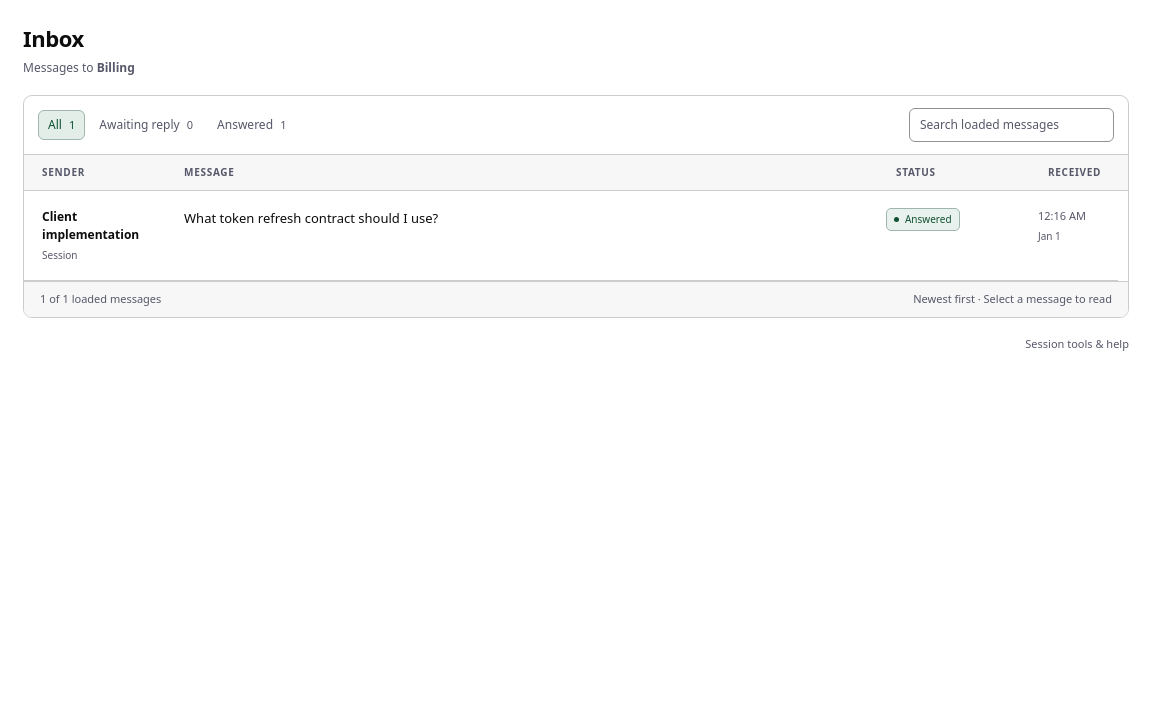
Test case: session inbox › shows who sent a question, its status, and the complete answer
Check: the text "Answered" is shown, box [886,208,960,231]
What coordinates should you click on to do the following:
click the heading "Client implementation"
I would click on:
 (60, 217)
Its box is [24,191,1118,280].
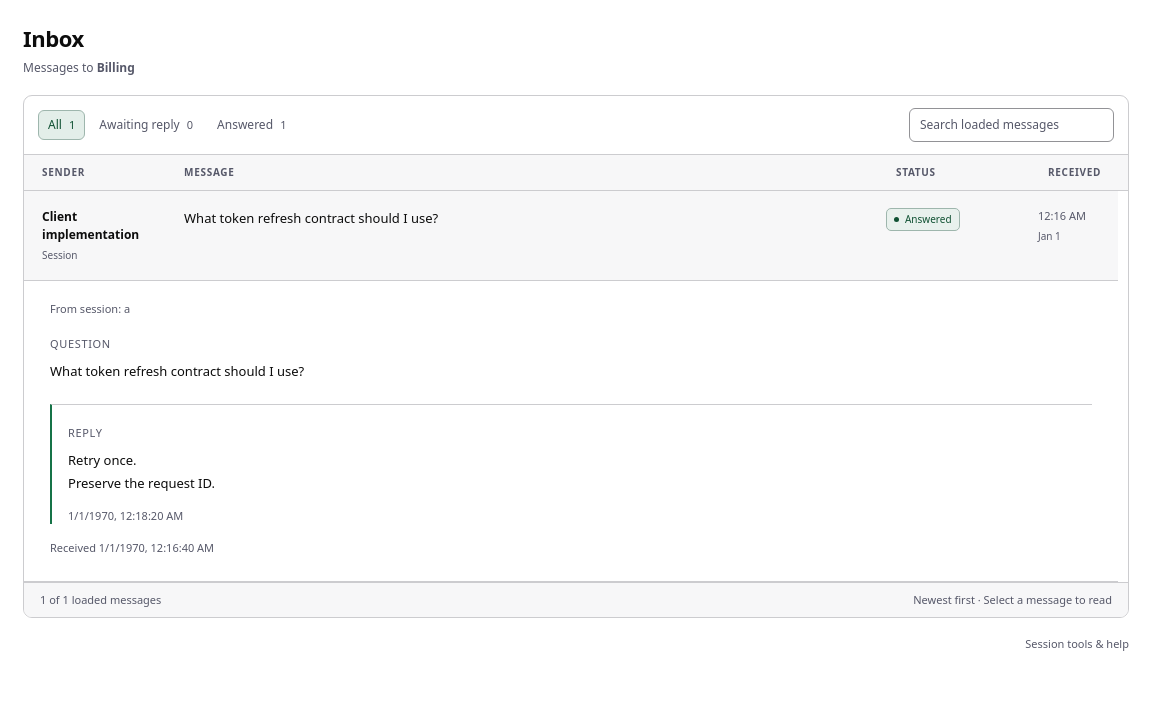
Check: the text "From session: a" is shown, box [50,301,130,316]
